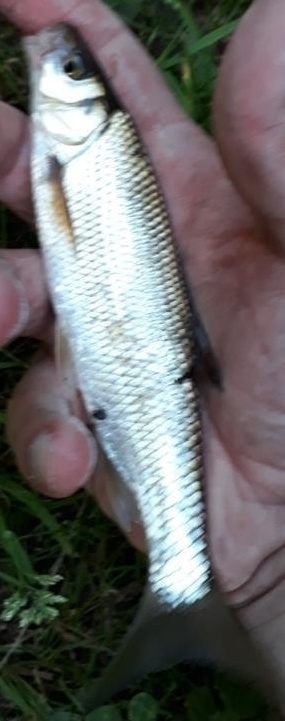Leuciscus leuciscus: (20, 20, 265, 701)
